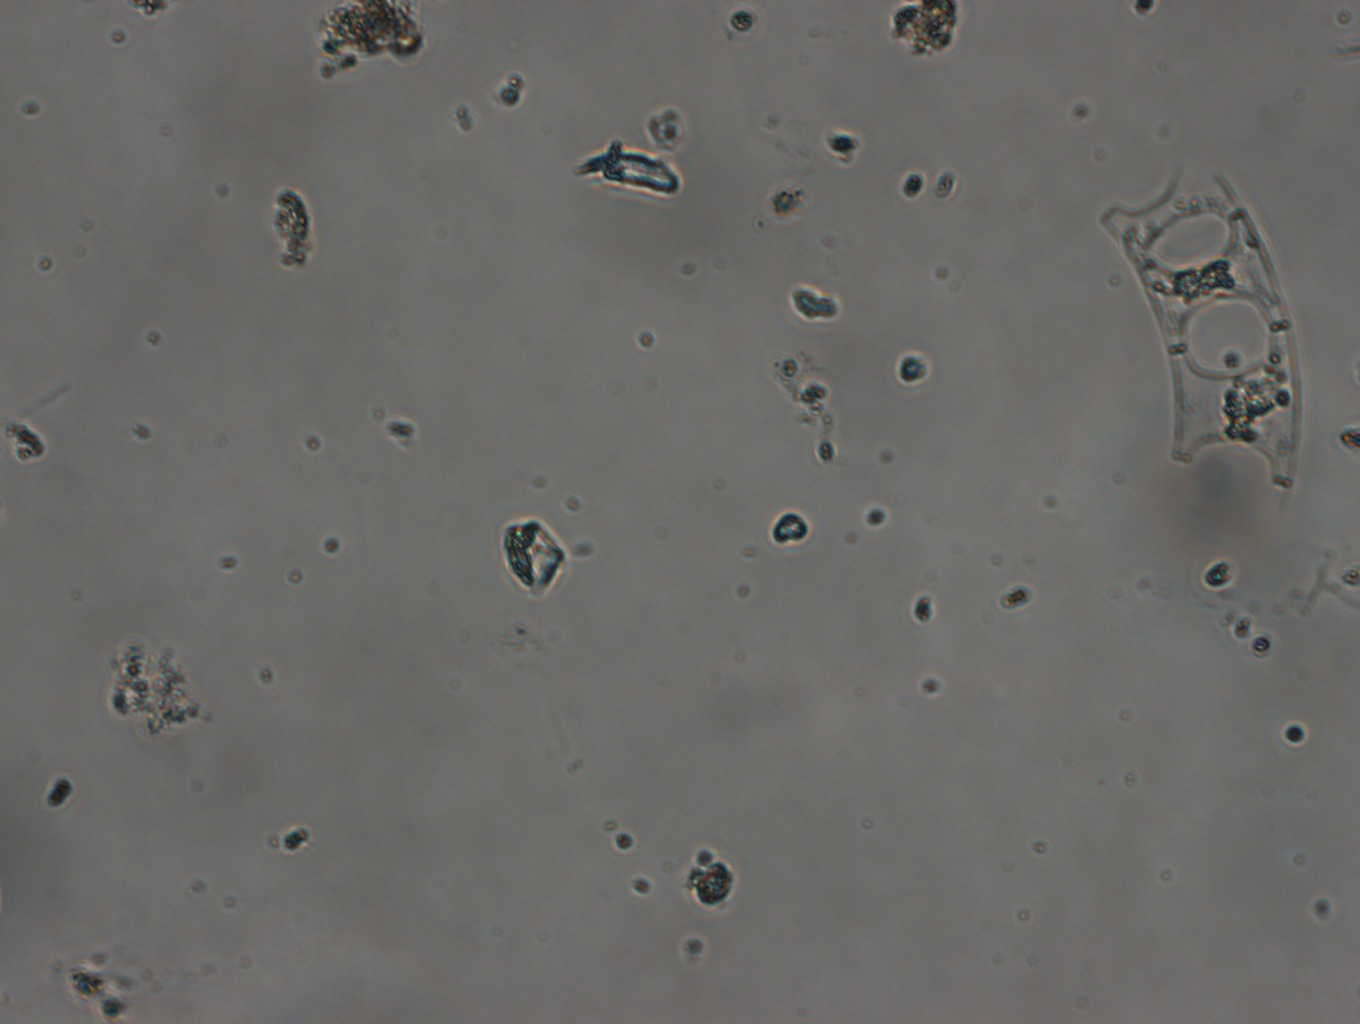eucampia: (1100, 159, 1309, 489)
